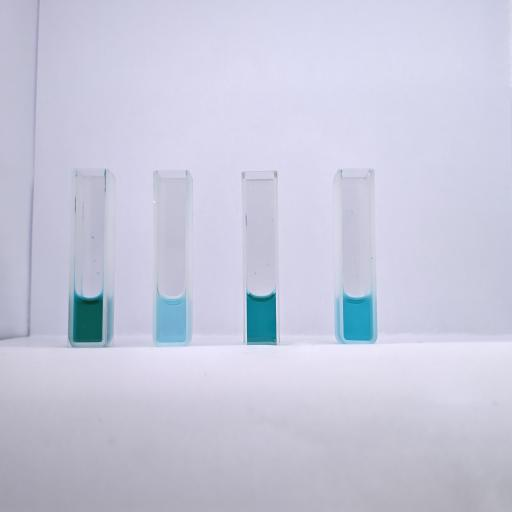cuvette: (335, 164, 380, 345), (66, 164, 110, 349), (151, 166, 194, 348), (240, 168, 282, 347)
liquid: (247, 291, 276, 341), (73, 294, 103, 342), (157, 293, 186, 342), (344, 293, 373, 340)
